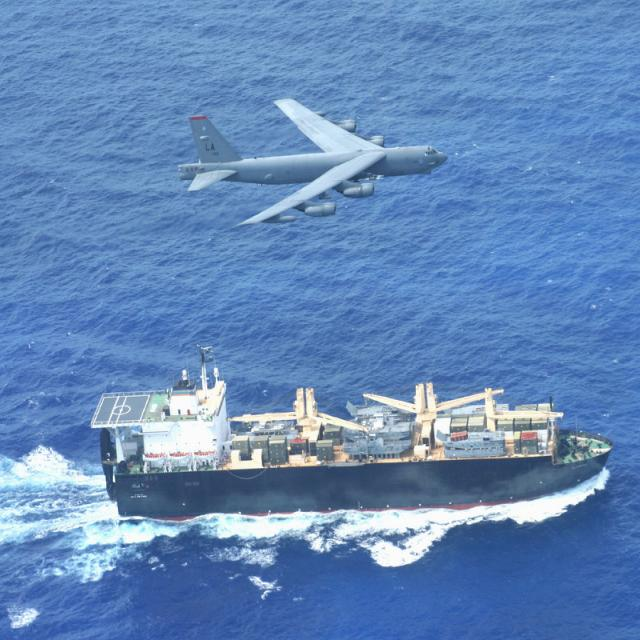MIL_Plane: (82, 98, 160, 226)
